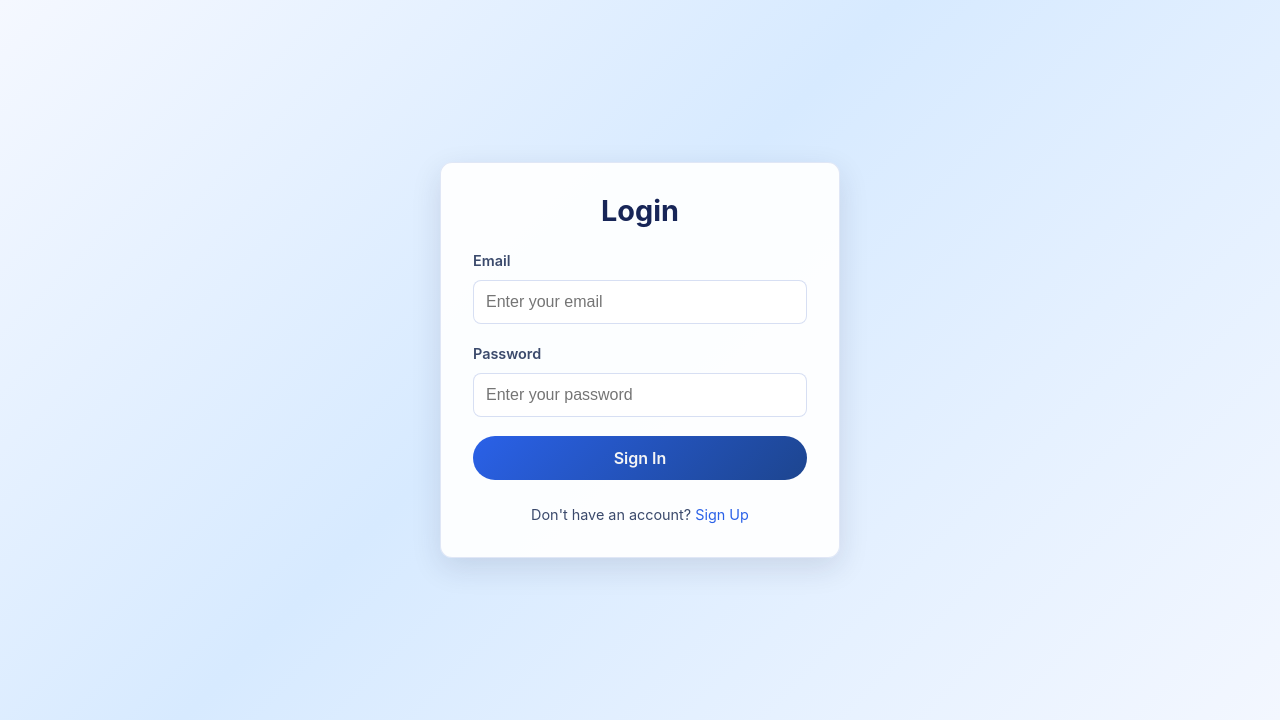
Test: Login › shows an error on failure
Type "a@b.com" into the field labelled "Email".
click(640, 302); type("a@b.com")  # box [473,280,807,324]
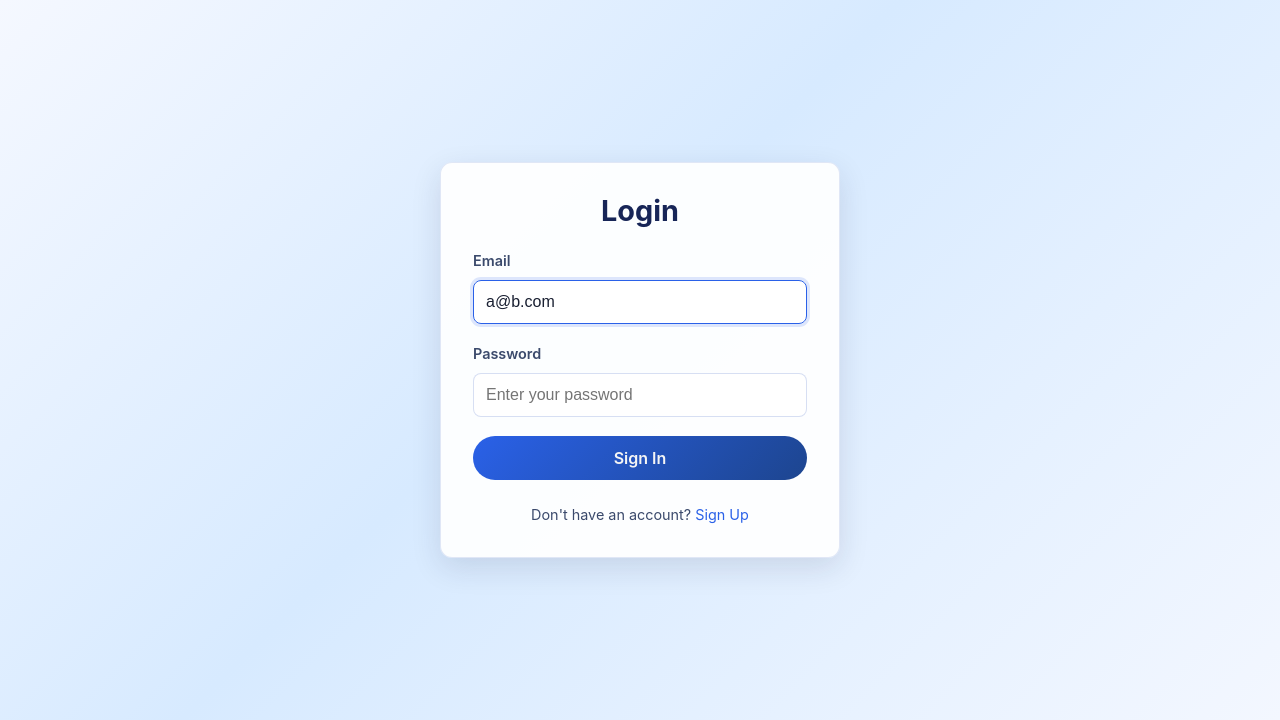
Type "pw" into the password field labelled "Password".
click(640, 395); type("pw")  # box [473,373,807,417]
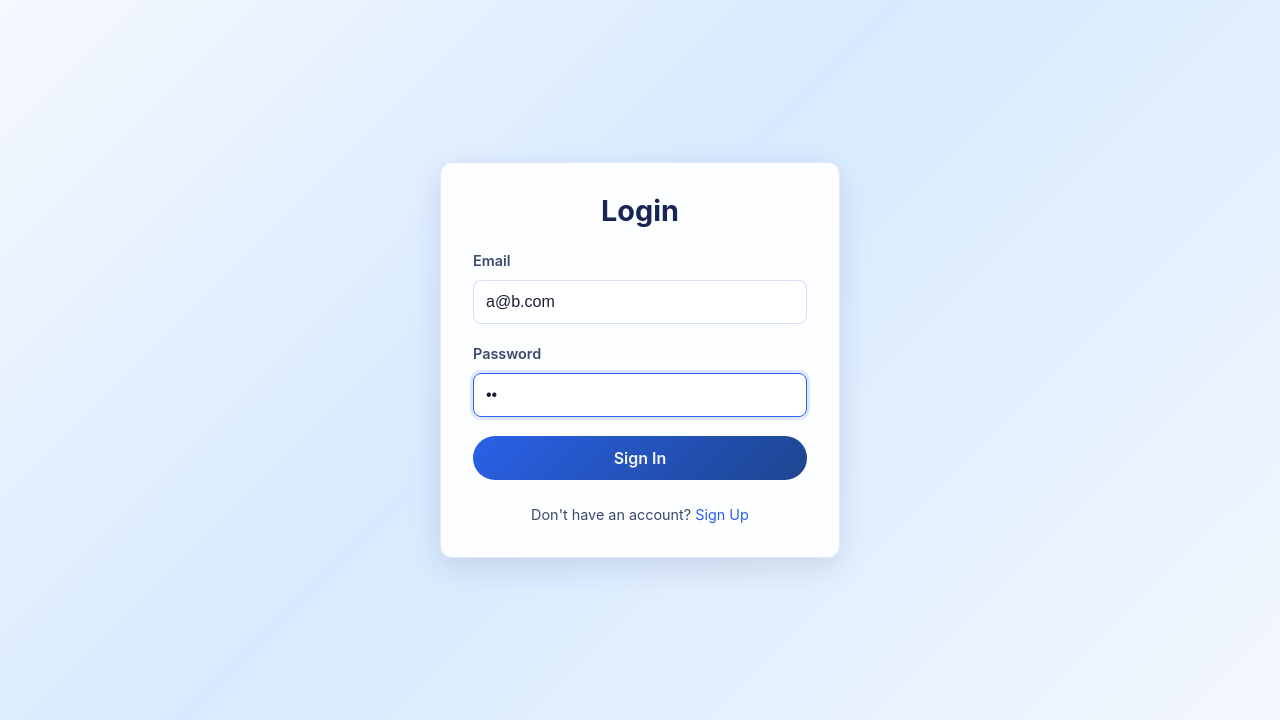
Click the button "Sign In".
click(640, 458)  # box [473,436,807,480]
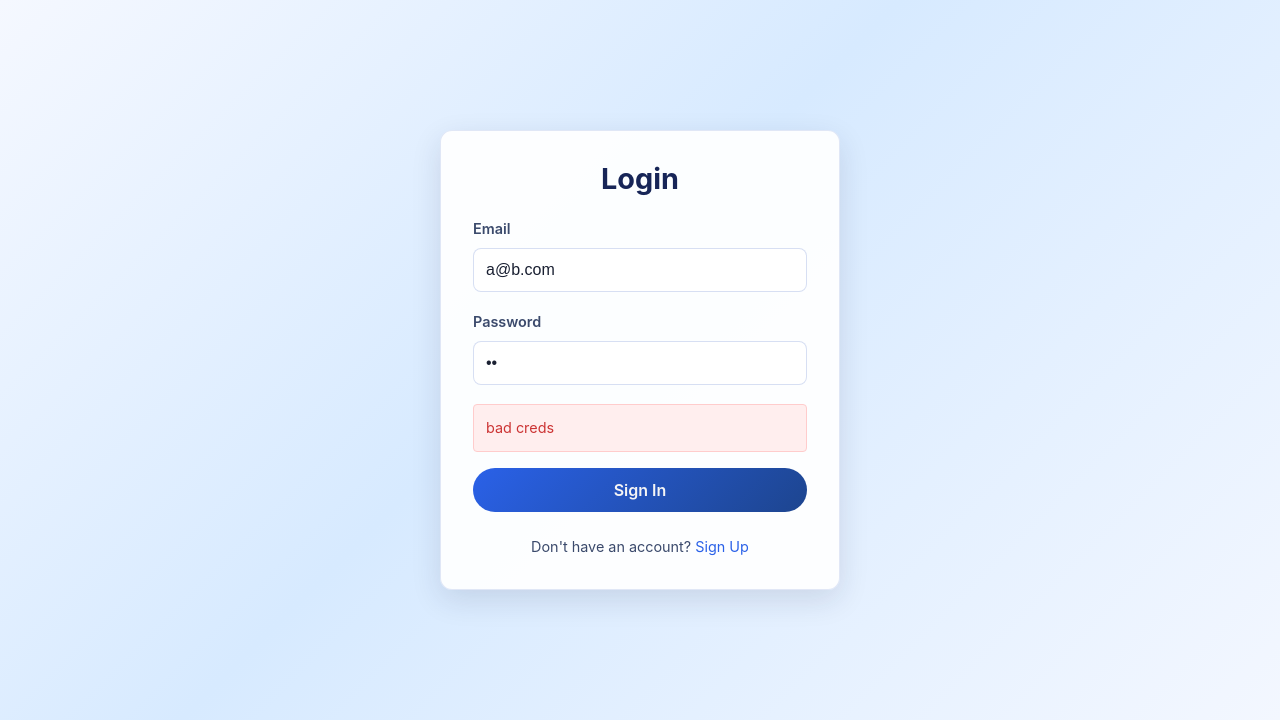
Check: the text "bad creds" is shown, box [473,404,807,452]
